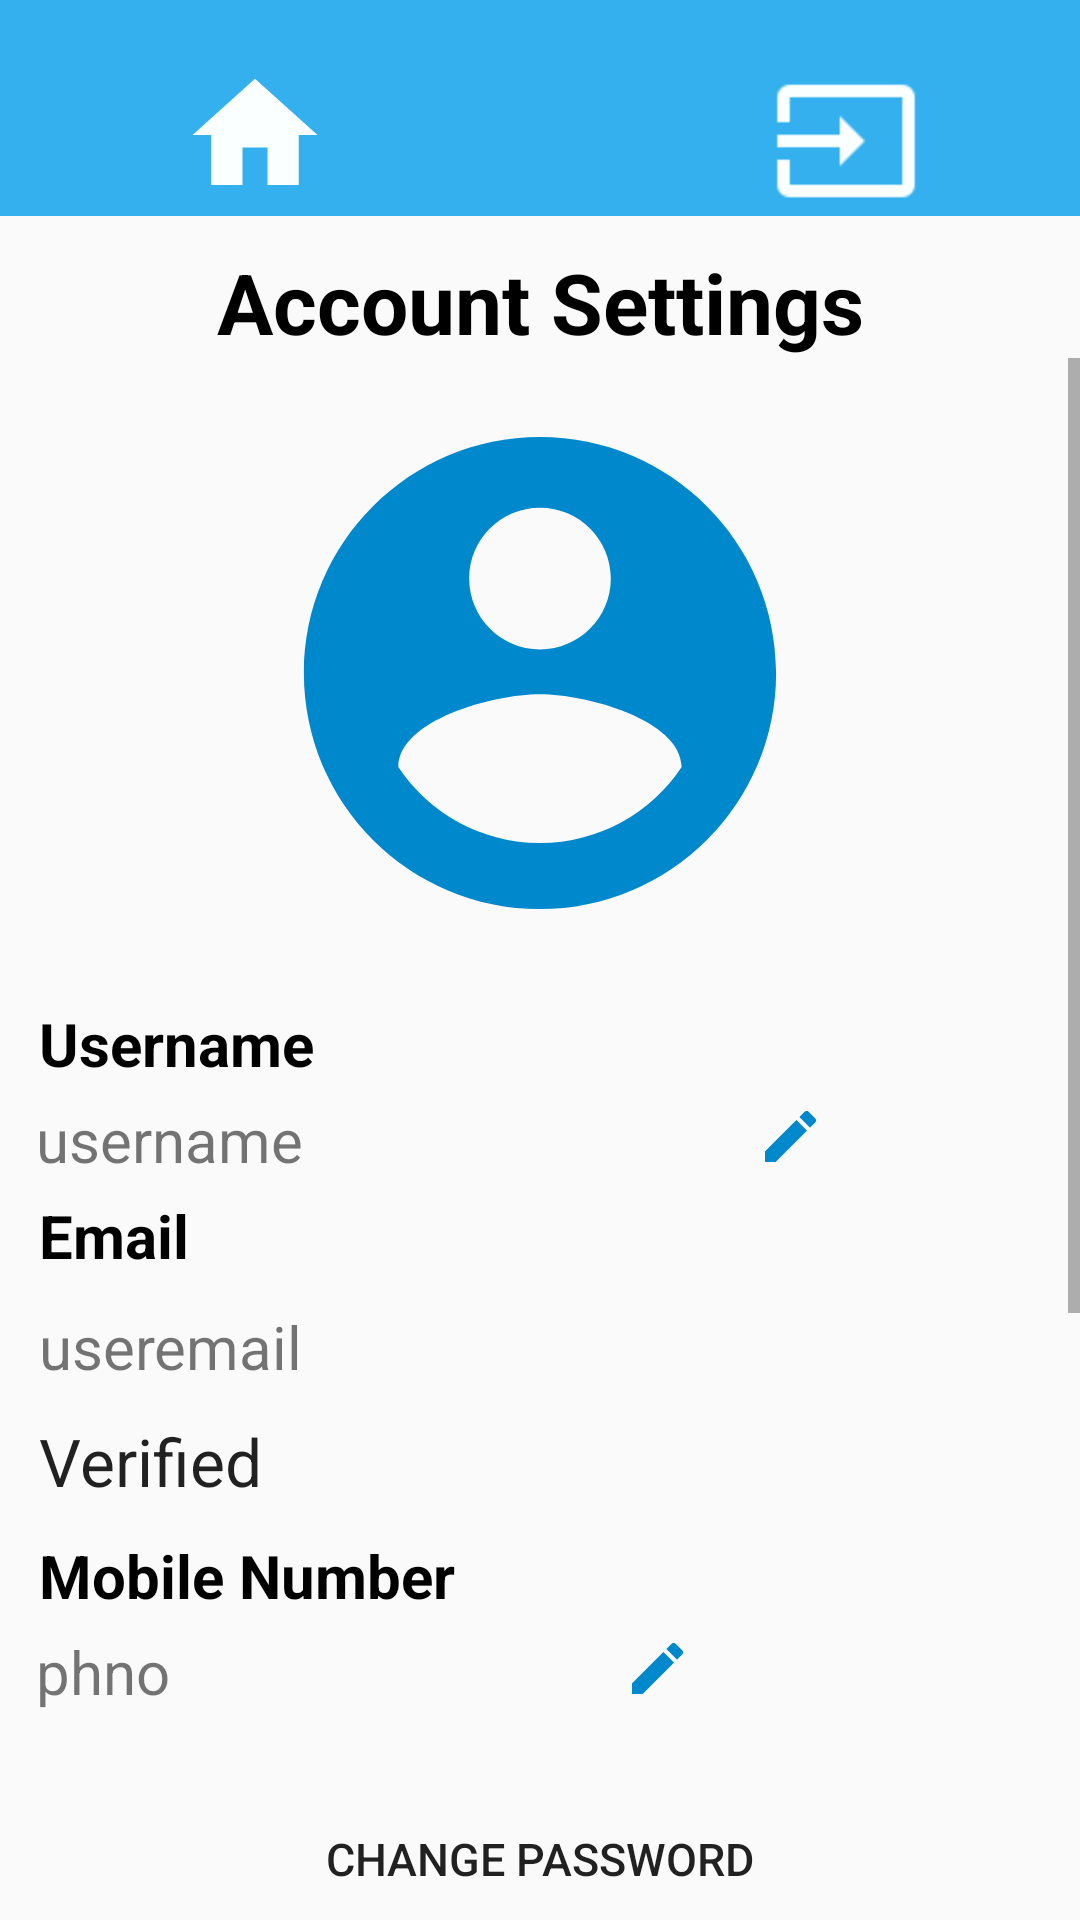

Icon bounding boxes for this 1080px×1920px phone screenshot, format (x1, y1, x2, y2):
edit: (765, 1111, 816, 1162), (632, 1643, 683, 1694)
